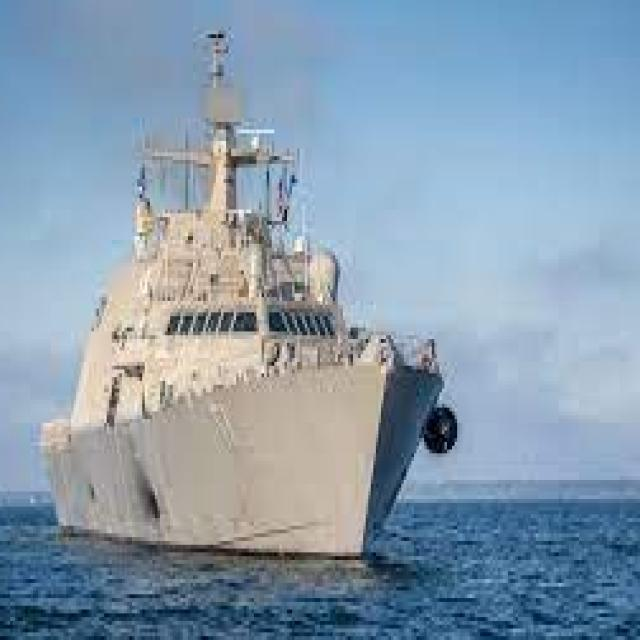navalvessels: (31, 34, 481, 582)
